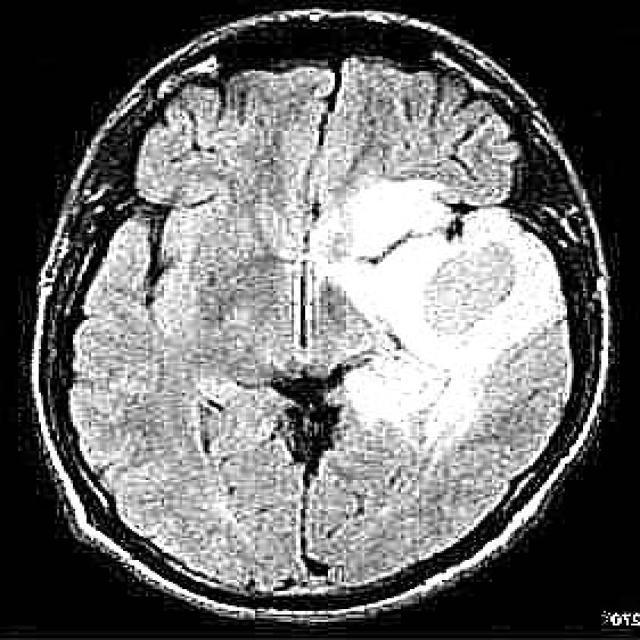brain tumor: (307, 178, 567, 460)
